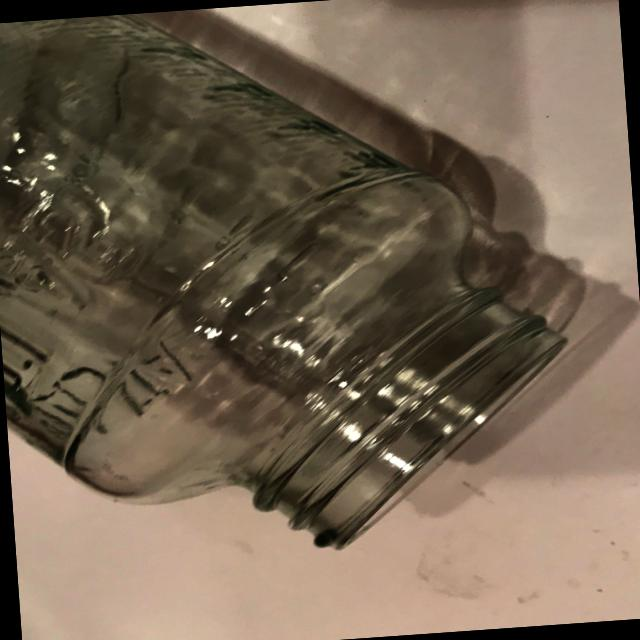Glass: (0, 0, 593, 581)
